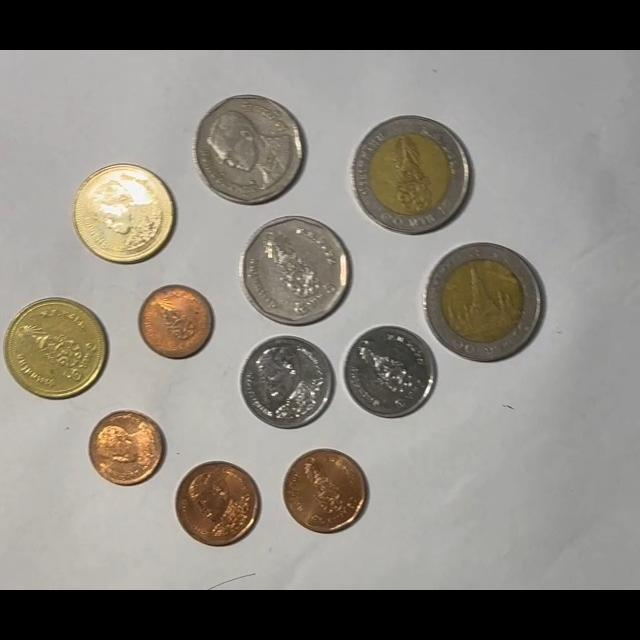1-baht: (239, 335, 334, 430), (342, 326, 437, 420)
10-baht: (351, 116, 471, 235), (424, 242, 543, 362)
2-baht: (3, 297, 106, 400), (72, 165, 173, 265)
25-satang: (88, 410, 166, 486), (139, 284, 213, 358)
5-baht: (194, 94, 305, 206), (241, 216, 351, 326)
50-satang: (174, 461, 261, 547), (282, 449, 367, 534)
